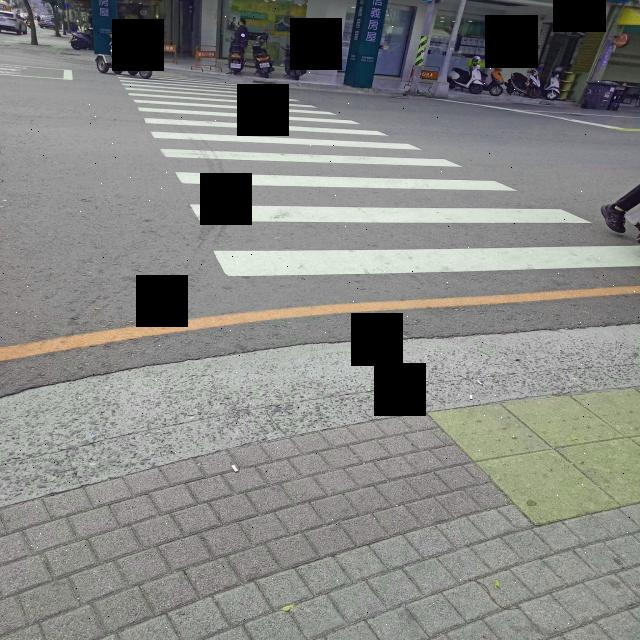zebra crossing: (115, 76, 640, 276)
